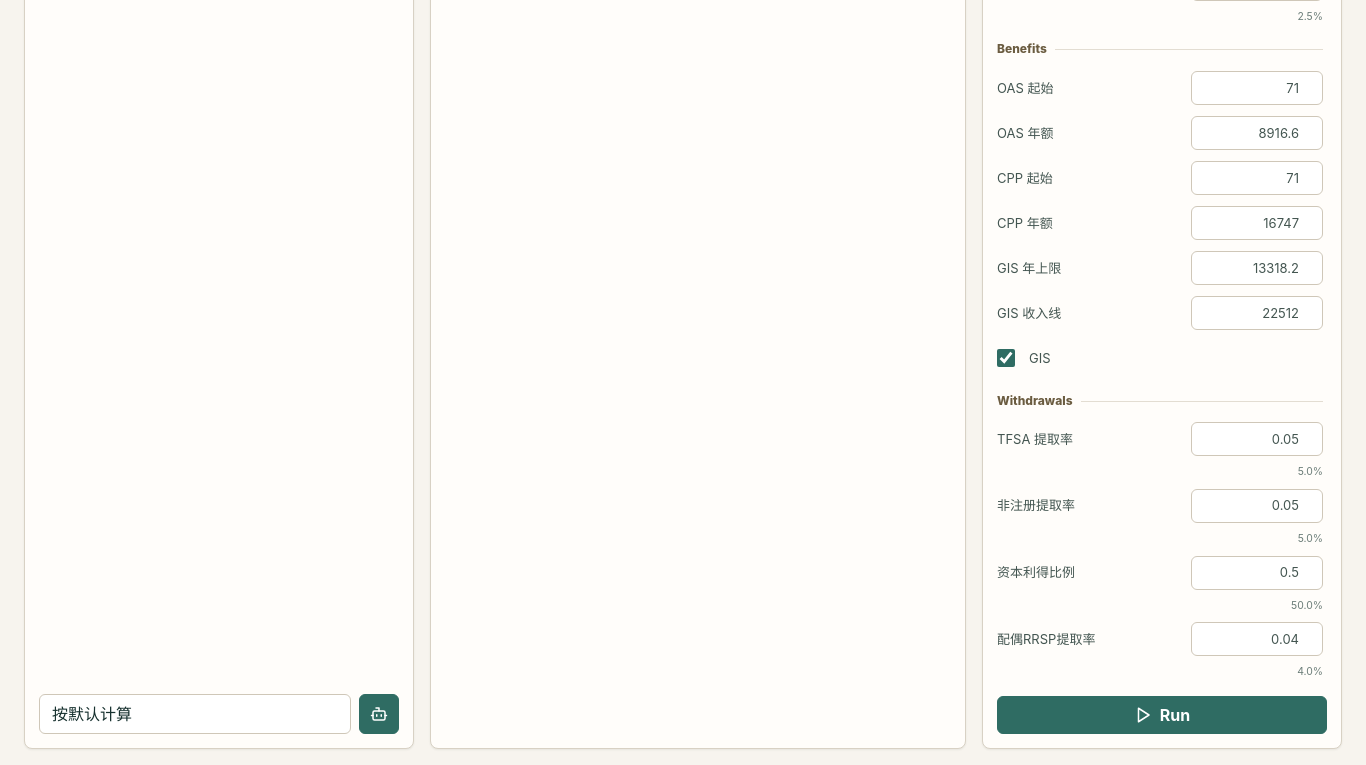
App › shows report export errors from chat actions
The width and height of the screenshot is (1366, 765).
(page scrolled)
Replace the text in the field with placeholder "40岁，RRSP50万，65退休" with "导出PDF" at (195, 714), box [39,694,351,734]
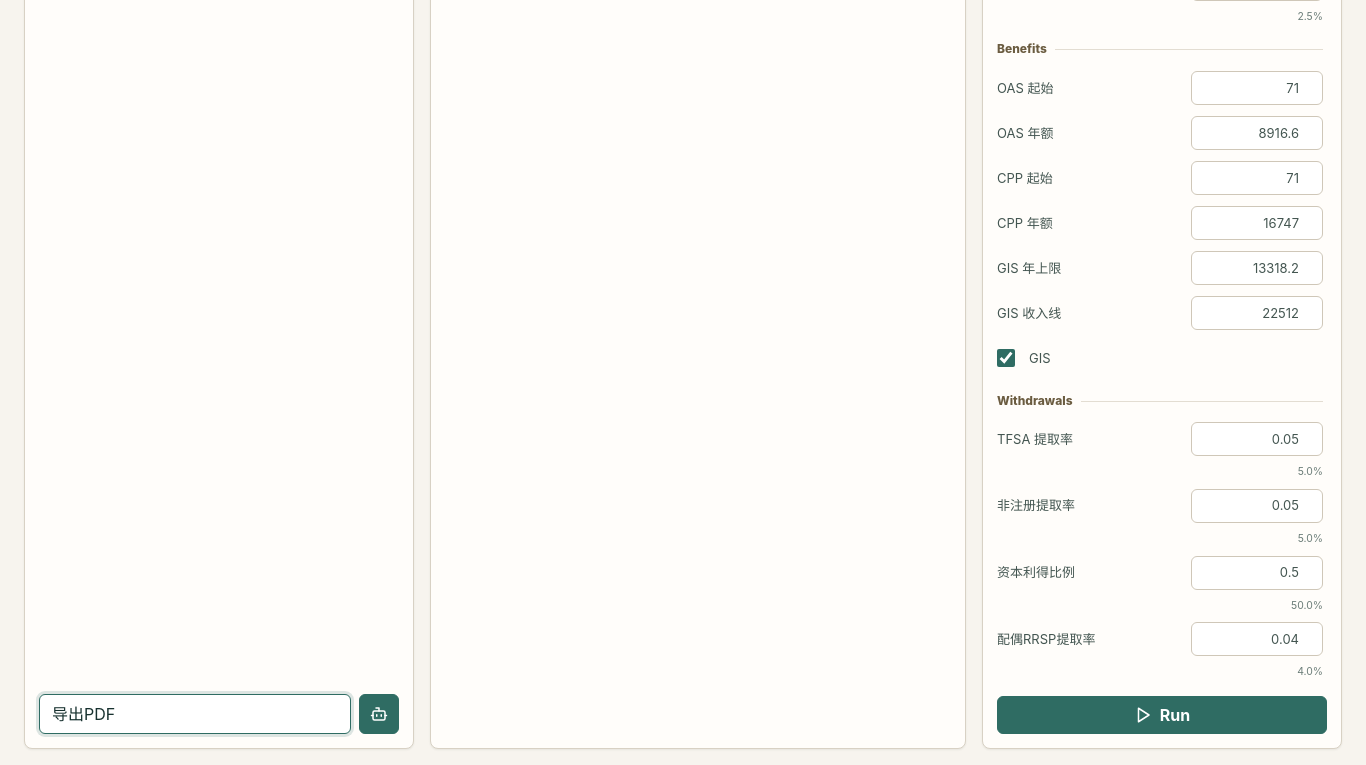
Click the button titled "Send".
click(379, 714)  # box [359,694,399,734]
(page scrolled)
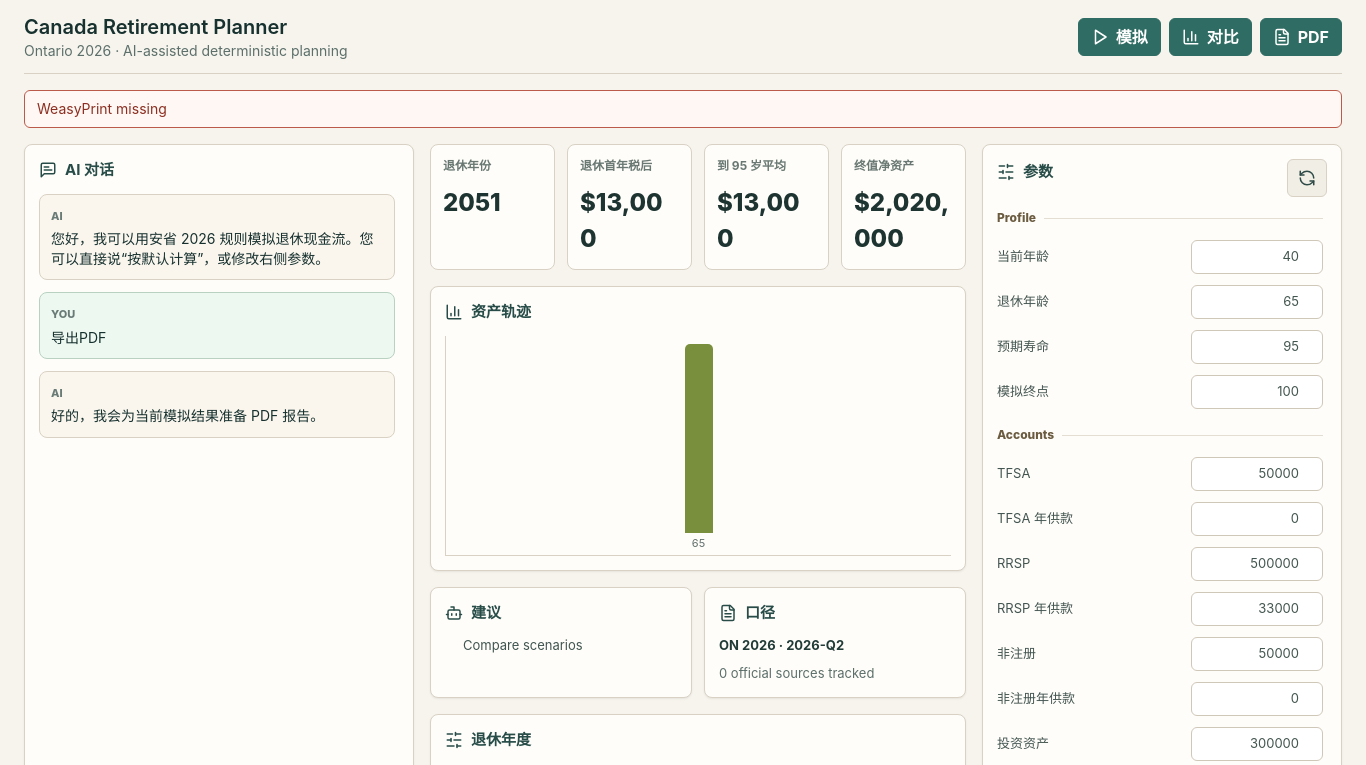
Now the text "WeasyPrint missing" is shown, box [24,90,1342,128]
